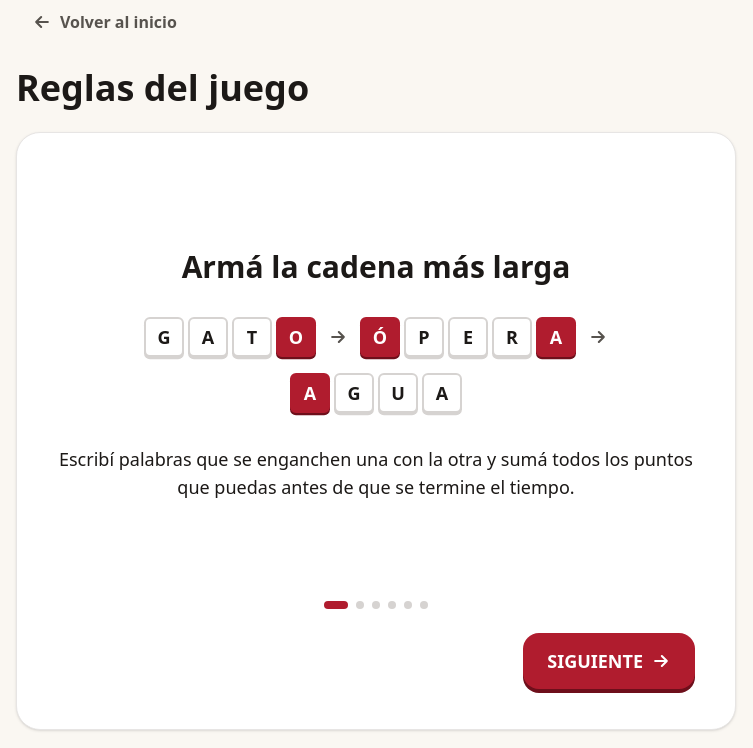
Test: RulesScreen › offers to start a game on the last rule
This screenshot has width=753, height=748.
Later steps or results of the test are not shown.
Click the button "Siguiente" at (609, 661), box 523,633 -> 695,689
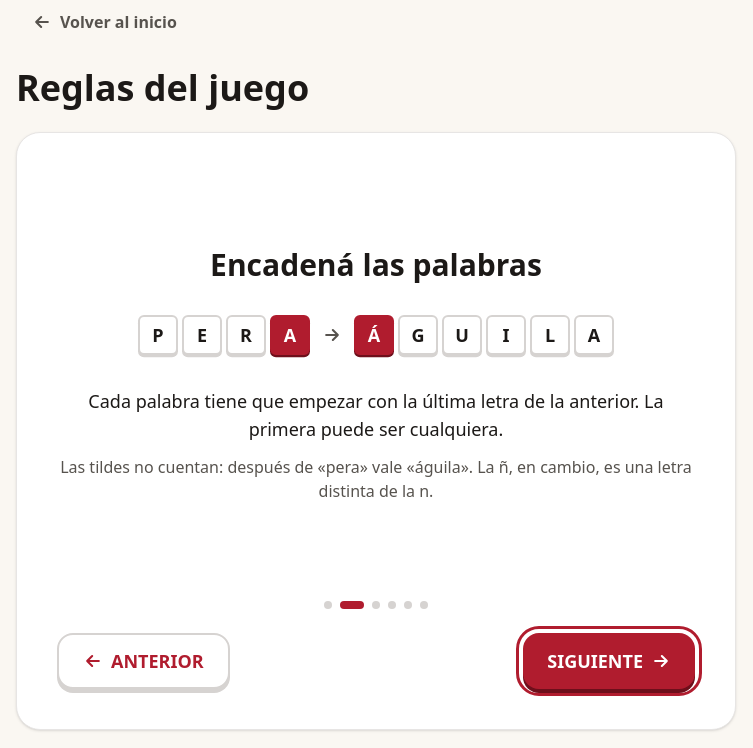
Click the button "Siguiente" at (609, 661), box 523,633 -> 695,689
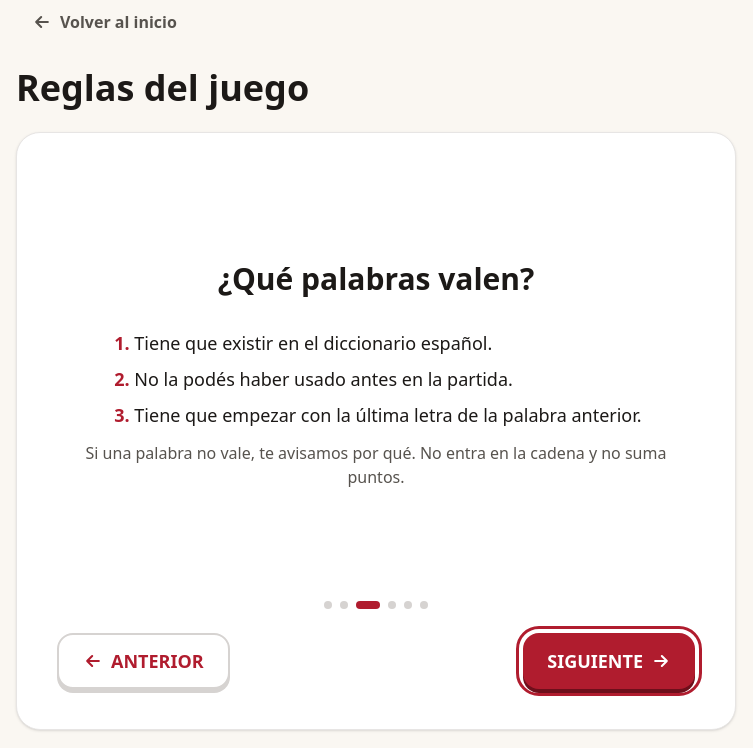
Click the button "Siguiente" at (609, 661), box 523,633 -> 695,689
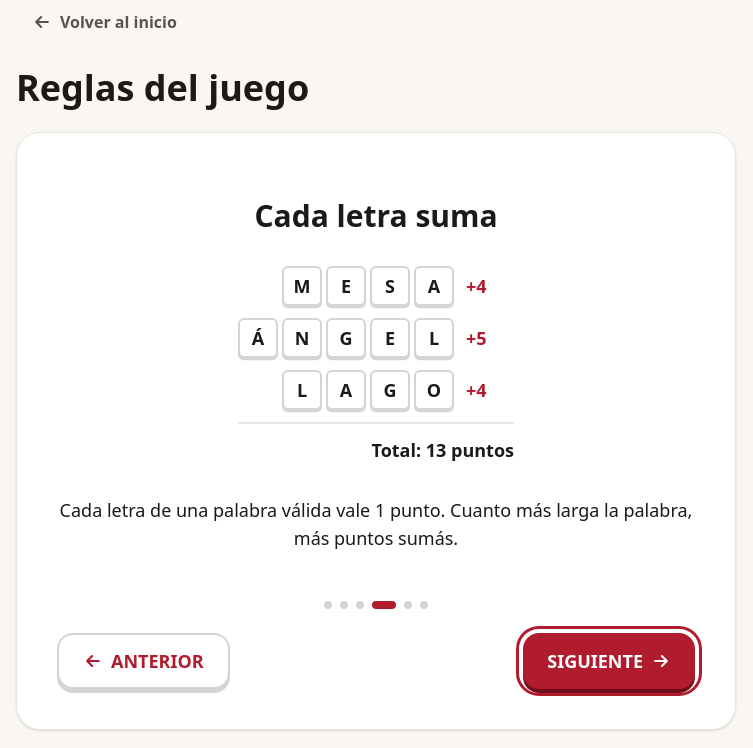
Click the button "Siguiente" at (609, 661), box 523,633 -> 695,689
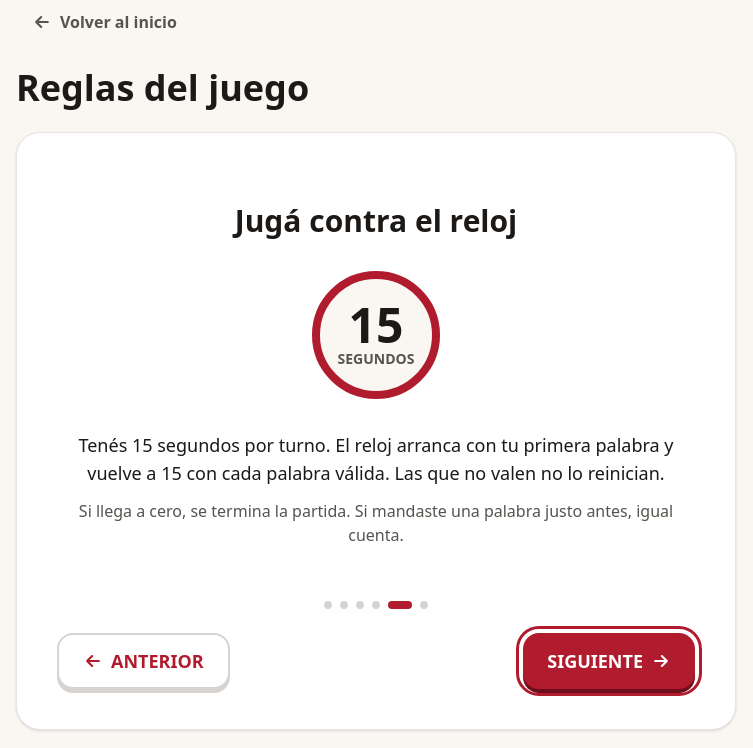
Click the button "Siguiente" at (609, 661), box 523,633 -> 695,689
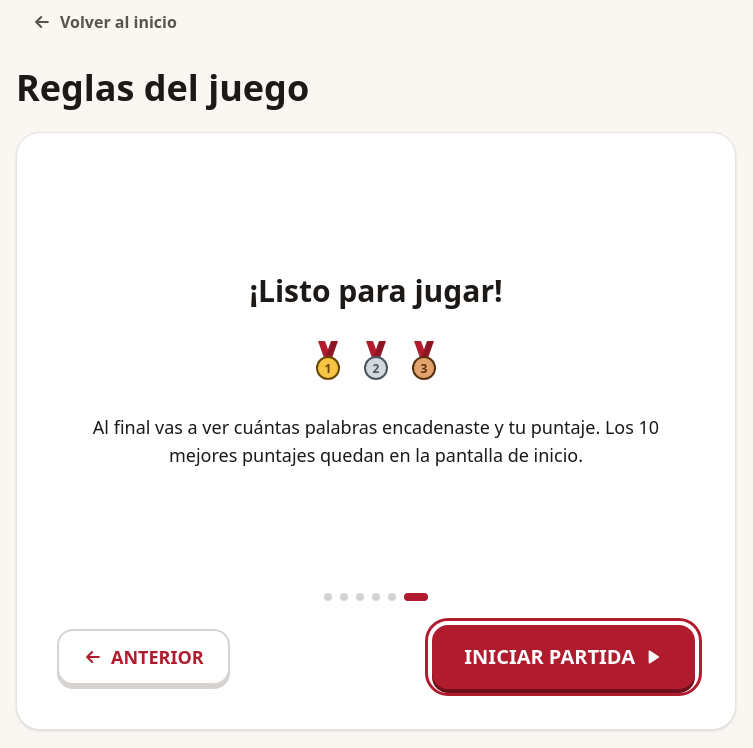
Now the heading "¡Listo para jugar!" is shown, box 249,273 -> 503,309
Now the button "Siguiente" is gone
